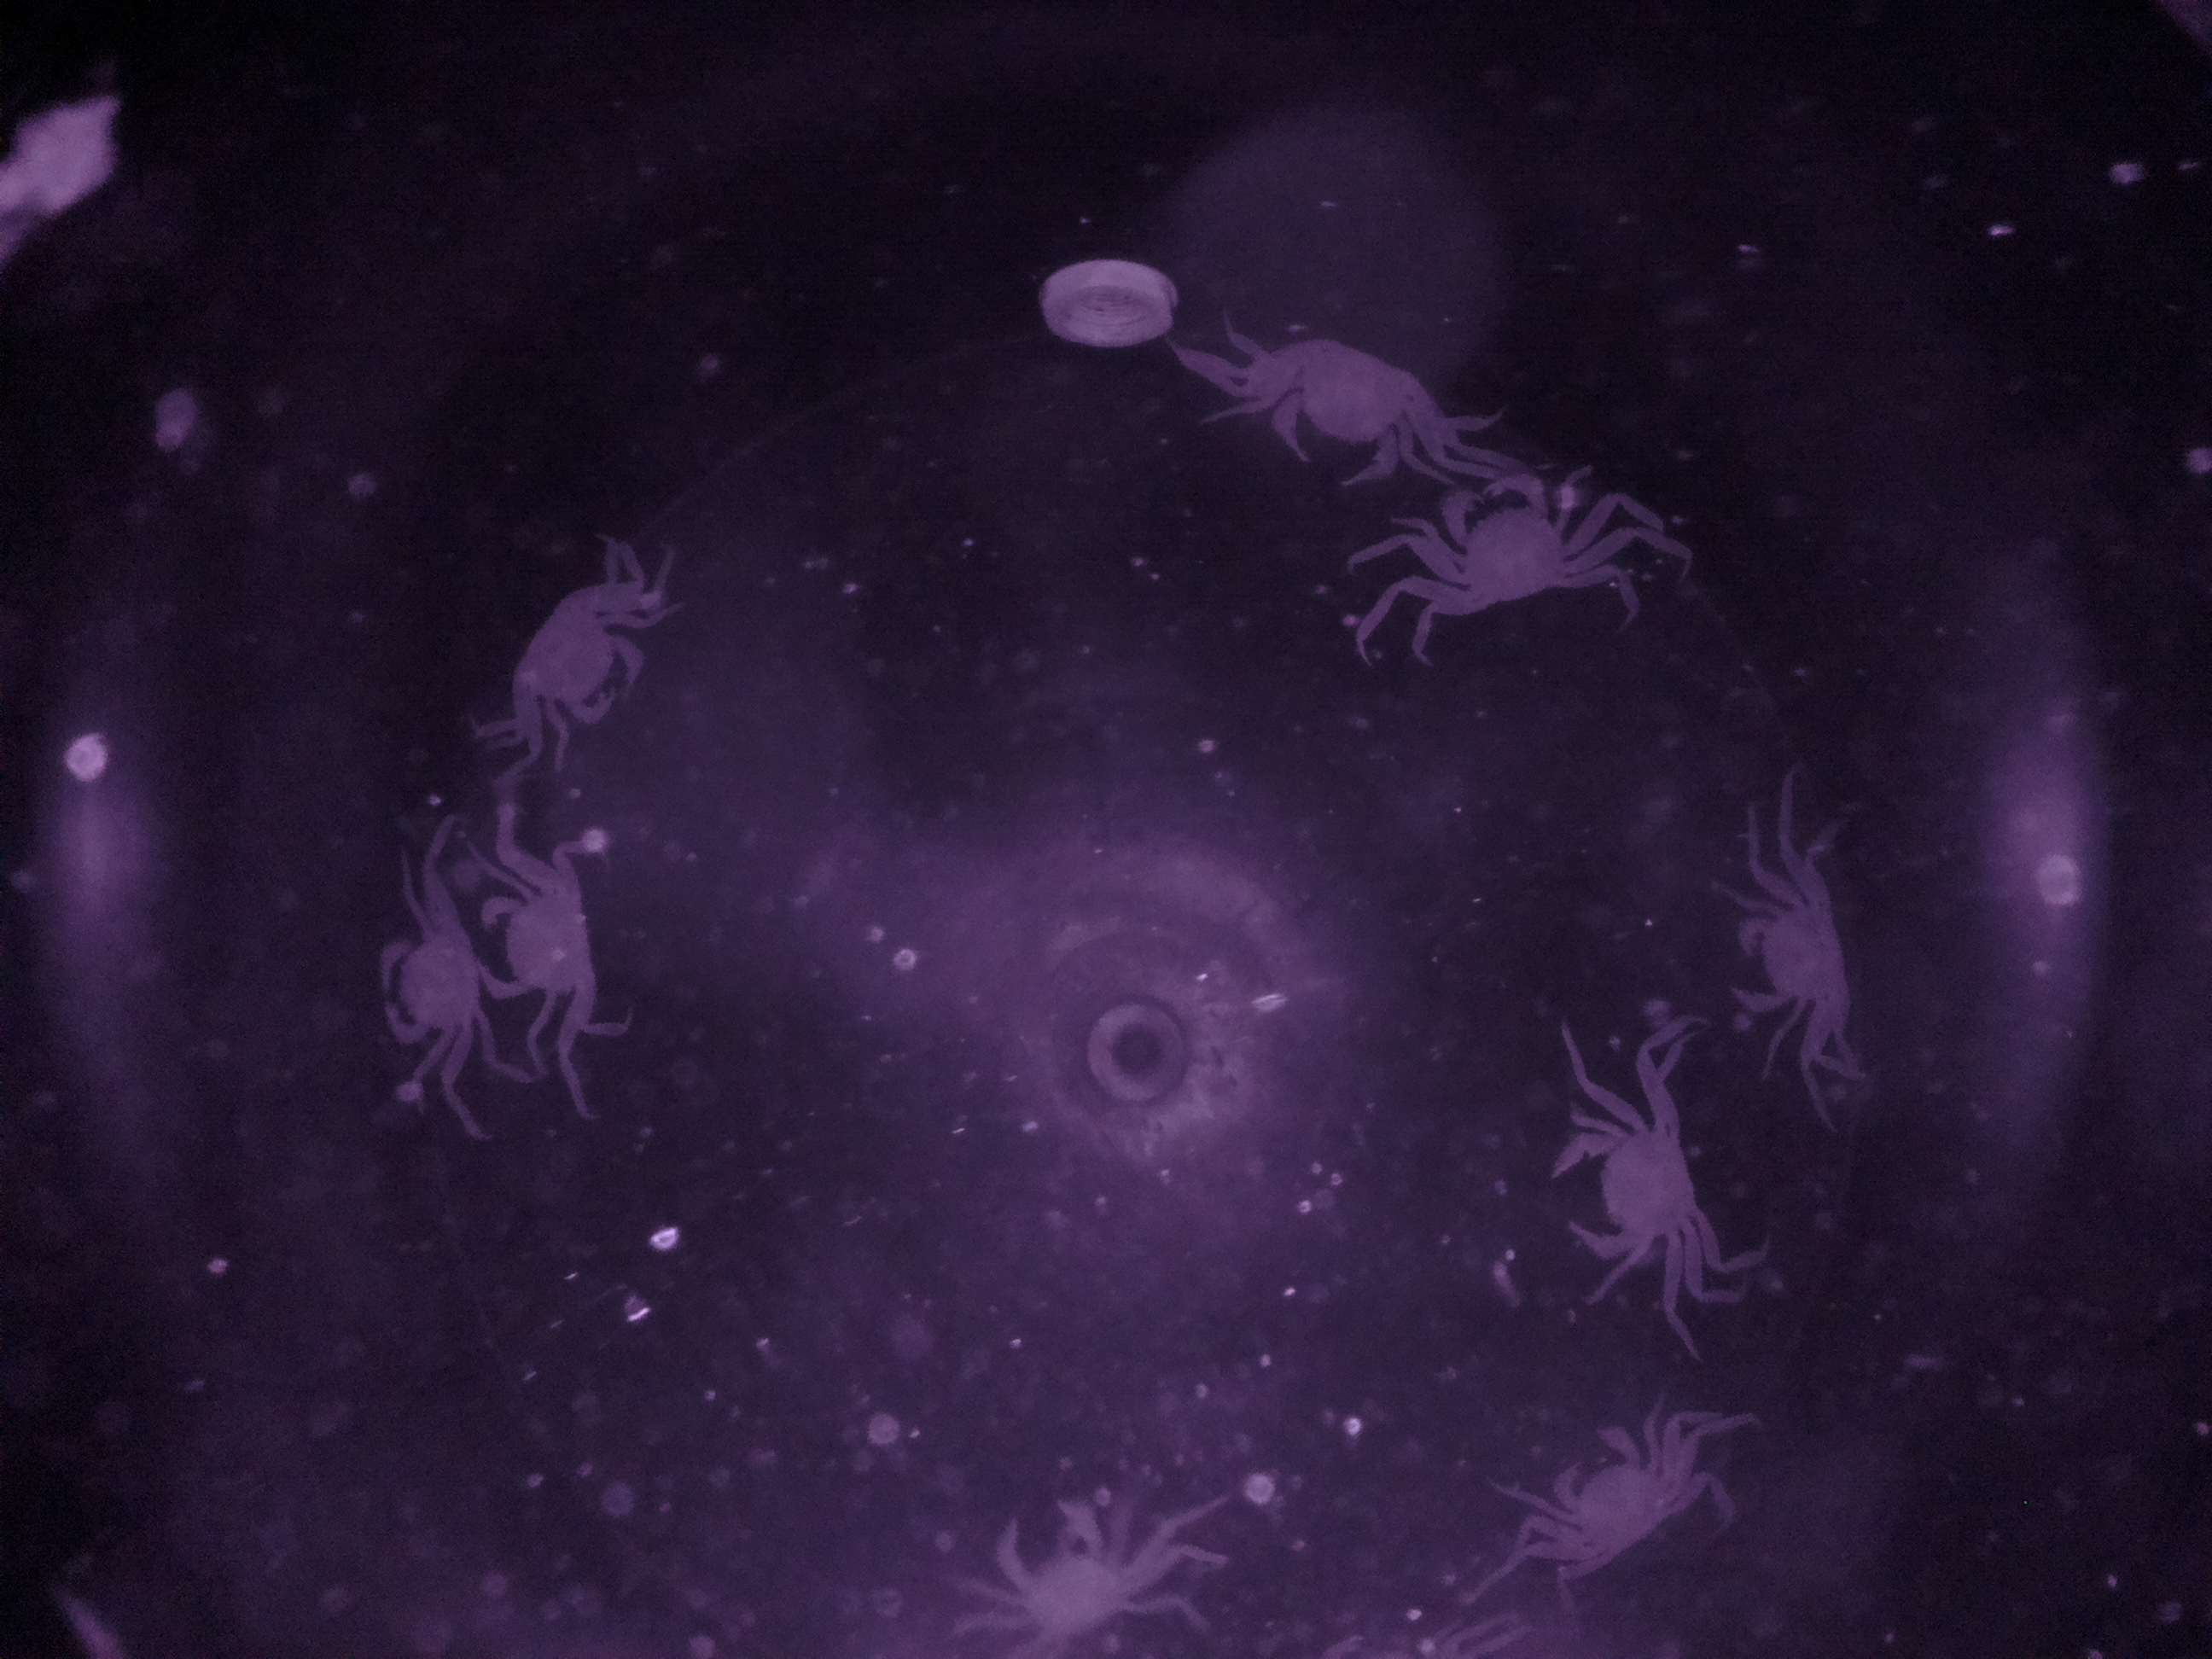Crab: (1531, 1084, 1733, 1290), (1221, 321, 1460, 493), (1393, 455, 1618, 638), (460, 838, 611, 1044), (495, 563, 658, 748), (1527, 1405, 1693, 1582), (1716, 852, 1862, 1051)
